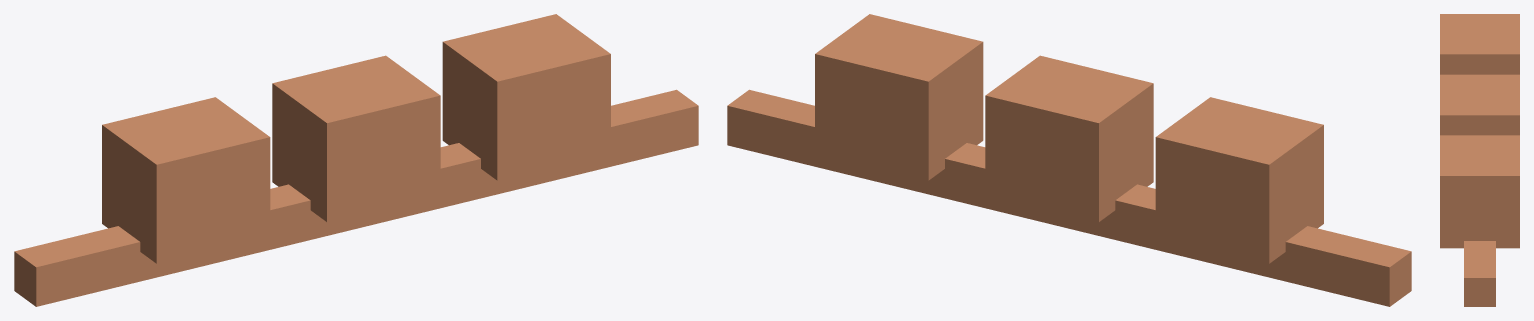
Rendered from product_skewer.glb.
3 renders of one model, left to right at view 1: azimuth 30°, elevation 25°; view 2: azimuth 150°, elevation 25°; view 3: azimuth 270°, elevation 25°, orthographic. The views are drawn at different scales.
Visible parts, largest first — view 1: product.skewer; view 2: product.skewer; view 3: product.skewer.
Part boxes in pixels (<box>): product.skewer: <box>14,14,698,306</box>; product.skewer: <box>727,14,1411,306</box>; product.skewer: <box>1440,14,1519,306</box>.
Size of the model in its own units: 0.24 by 0.0446 by 0.0343.
